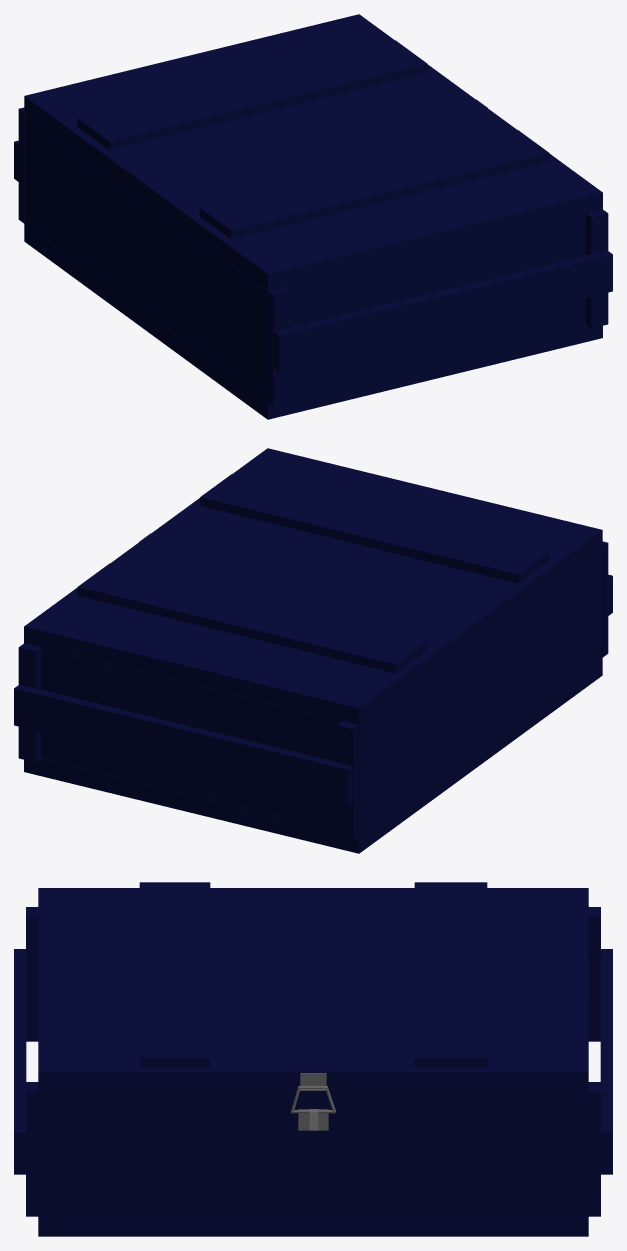
The picture shows the model from 3 angles, top to bottom: view 1: azimuth 30°, elevation 25°; view 2: azimuth 150°, elevation 25°; view 3: azimuth 270°, elevation 25°; orthographic projection. The views are drawn at different scales.
Parts seen in each view (by area): view 1: Cube; view 2: Cube; view 3: Cube.
Boxes of the visible parts, x1=… form: Cube: x1=14, y1=14, x2=612, y2=419; Cube: x1=14, y1=448, x2=612, y2=853; Cube: x1=14, y1=882, x2=612, y2=1236.
Size of the model in its own units: 206 by 93.75 by 274.
